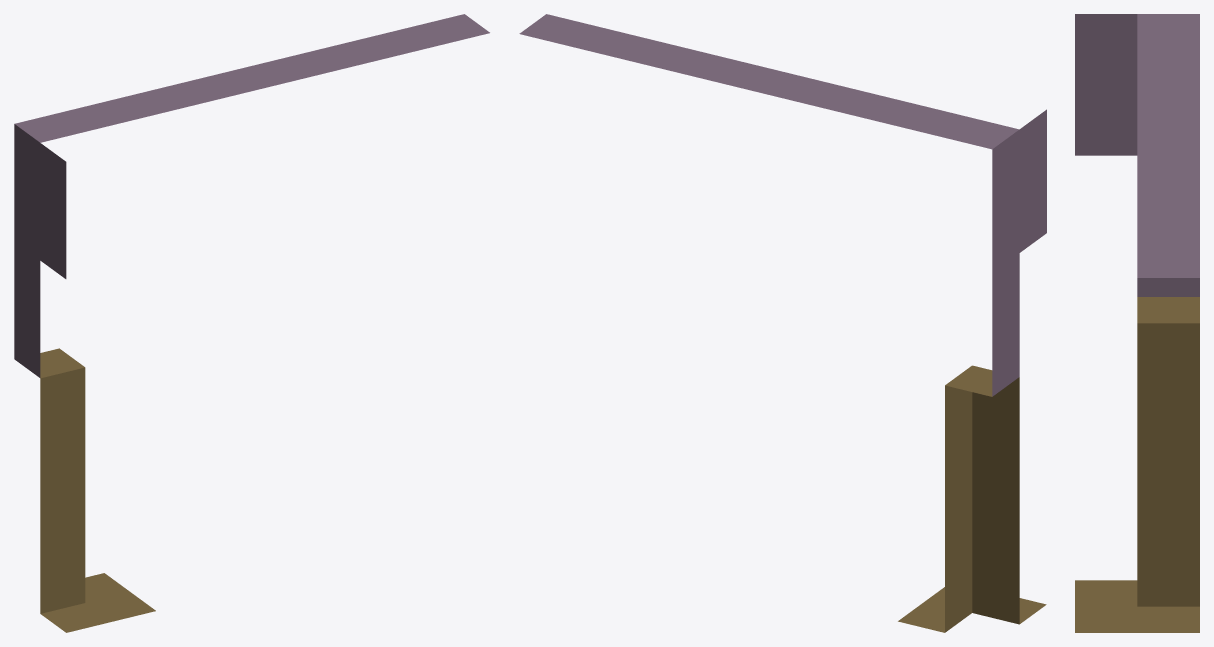
File: Inner_Corner_Wall_Roof_Left.obj
3 views of the same model, side by side, from view 1: azimuth 30°, elevation 25°; view 2: azimuth 150°, elevation 25°; view 3: azimuth 270°, elevation 25° (orthographic). The views are drawn at different scales.
Parts seen in each view (by area): view 1: Inner_Corner_Wall_Roof_Left; view 2: Inner_Corner_Wall_Roof_Left; view 3: Inner_Corner_Wall_Roof_Left.
Part boxes in pixels (box(x1,y1,x2,y2)): Inner_Corner_Wall_Roof_Left: box(14, 14, 489, 632); Inner_Corner_Wall_Roof_Left: box(519, 14, 1046, 632); Inner_Corner_Wall_Roof_Left: box(1075, 14, 1199, 632).
Size of the model in its own units: 1 by 1 by 0.2.
